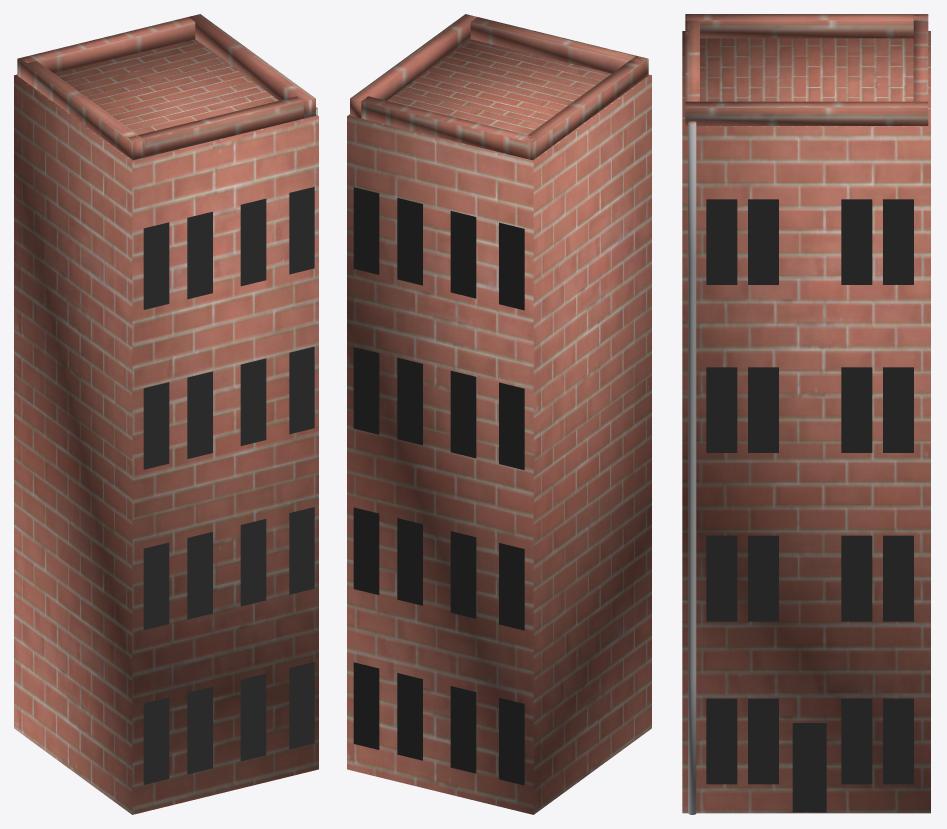
Rendered from building2.obj.
3 renders of one model, left to right at view 1: azimuth 30°, elevation 25°; view 2: azimuth 150°, elevation 25°; view 3: azimuth 270°, elevation 25°, orthographic. The views are drawn at different scales.
Visible parts, largest first — view 1: Box001, Box005, Box004, Box003, Box002, Plane049, Plane043, Plane035, Plane039, Plane041, Plane045, Plane037 (+9 smaller); view 2: Box001, Box004, Box005, Box003, Box002, Plane019, Plane029, Plane033, Plane025, Plane021, Plane023, Plane027 (+9 smaller); view 3: Box001, Cylinder001, Box002, Box003, Plane003, Plane007, Plane009, Plane002, Plane005, Plane011, Plane013, Plane015 (+11 smaller).
Boxes of the visible parts, box(x1,y1,x2,y2) form: Box001: box(14, 39, 318, 814); Box005: box(129, 96, 303, 157); Box004: box(20, 17, 195, 73); Box003: box(17, 56, 144, 160); Box002: box(189, 14, 315, 118); Plane049: box(143, 222, 169, 309); Plane043: box(240, 358, 266, 445); Plane035: box(240, 674, 266, 761); Plane039: box(240, 519, 266, 606); Plane041: box(143, 542, 169, 629); Plane045: box(143, 382, 169, 469); Plane037: box(143, 697, 169, 784); Box001: box(347, 39, 651, 814); Box004: box(361, 96, 537, 159); Box005: box(470, 17, 645, 73); Box003: box(524, 56, 648, 160); Box002: box(350, 14, 476, 118); Plane019: box(450, 686, 476, 773); Plane029: box(353, 347, 379, 434); Plane033: box(353, 187, 379, 274); Plane025: box(353, 507, 379, 594); Plane021: box(353, 662, 379, 749); Plane023: box(450, 531, 476, 618); Plane027: box(450, 371, 476, 458); Box001: box(682, 31, 930, 813); Cylinder001: box(688, 121, 696, 814); Box002: box(685, 101, 928, 125); Box003: box(685, 14, 928, 38); Plane003: box(792, 723, 826, 812); Plane007: box(841, 535, 872, 621); Plane009: box(706, 535, 737, 621); Plane002: box(841, 698, 872, 784); Plane005: box(706, 698, 737, 784); Plane011: box(841, 367, 872, 452); Plane013: box(706, 367, 737, 452); Plane015: box(841, 199, 872, 284).
Size of the model in its own units: 117 by 395 by 129.
